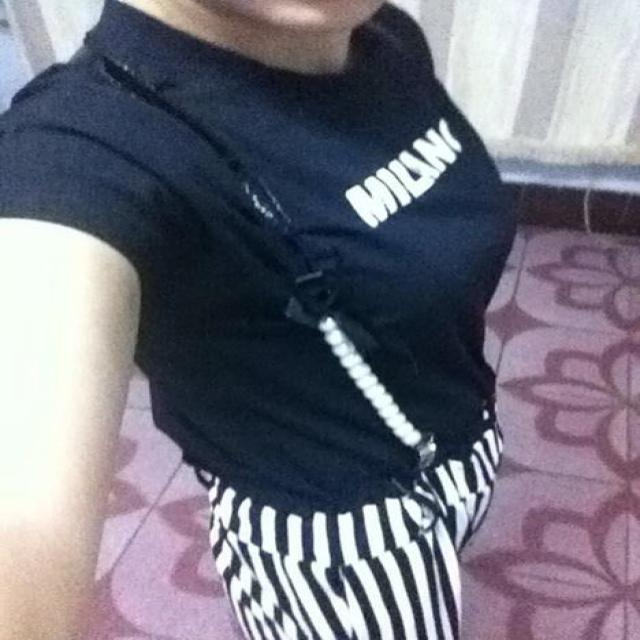short-sleeve-top: (31, 30, 545, 526)
